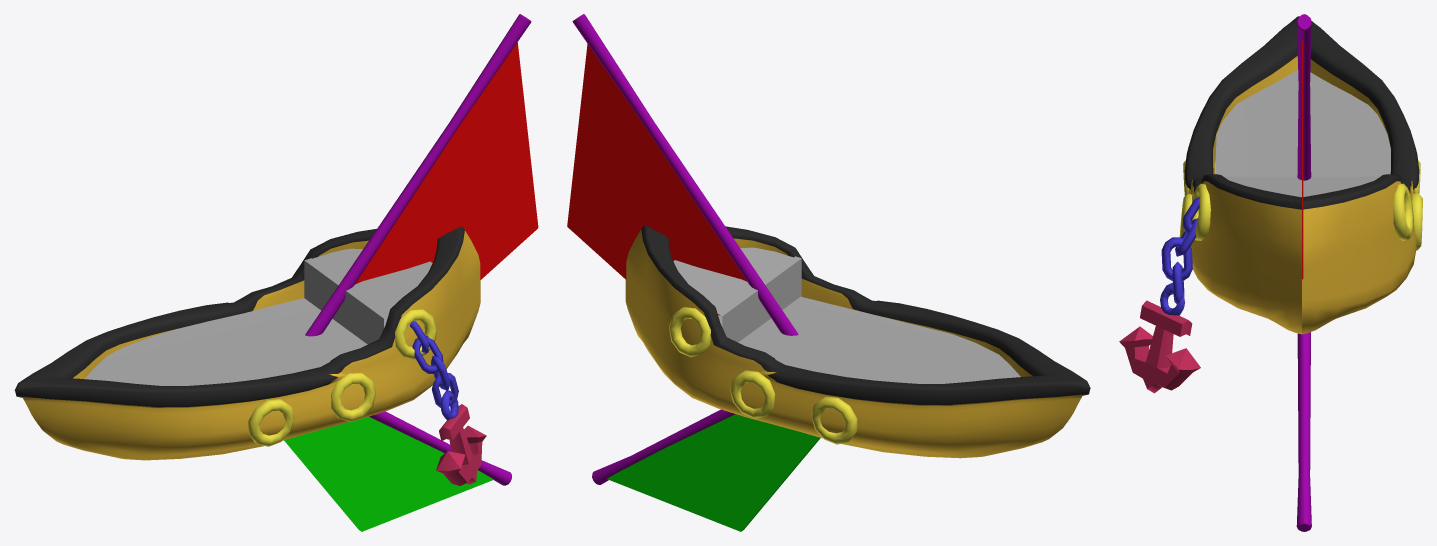
File: M2 Boat.fbx
3 renders of one model, left to right at view 1: azimuth 30°, elevation 25°; view 2: azimuth 150°, elevation 25°; view 3: azimuth 270°, elevation 25°, orthographic. The views are drawn at different scales.
Parts seen in each view (by area): view 1: pCube281, pPlane10, pPlane9, pPlane11, pCube362, pCube280, pCylinder130, pTorus38, pCube282, pCylinder133, pTorus35, pTorus39 (+1 smaller); view 2: pCube362, pPlane10, pPlane9, pPlane11, pCube281, pCube280, pCylinder130, pTorus36, pCylinder133, pTorus37; view 3: pCube281, pCube362, pPlane9, pCube282, pCylinder133, pCylinder130, pCube280, pTorus32, pTorus36, pTorus35, pTorus39, pTorus37 (+2 smaller).
Part boxes in pixels (x1=…): pCube281: x1=15, y1=226, x2=480, y2=460; pPlane10: x1=355, y1=42, x2=538, y2=284; pPlane9: x1=84, y1=298, x2=387, y2=385; pPlane11: x1=284, y1=416, x2=493, y2=531; pCube362: x1=14, y1=229, x2=376, y2=390; pCube280: x1=304, y1=248, x2=432, y2=344; pCylinder130: x1=305, y1=14, x2=531, y2=336; pTorus38: x1=248, y1=372, x2=376, y2=446; pCube282: x1=436, y1=404, x2=486, y2=485; pCylinder133: x1=369, y1=411, x2=511, y2=485; pTorus35: x1=395, y1=309, x2=436, y2=359; pTorus39: x1=410, y1=321, x2=443, y2=374; pCube362: x1=625, y1=225, x2=1090, y2=458; pPlane10: x1=567, y1=44, x2=746, y2=315; pPlane9: x1=718, y1=296, x2=1020, y2=383; pPlane11: x1=607, y1=414, x2=820, y2=531; pCube281: x1=725, y1=226, x2=1090, y2=388; pCube280: x1=673, y1=247, x2=801, y2=342; pCylinder130: x1=572, y1=14, x2=798, y2=335; pTorus36: x1=669, y1=307, x2=857, y2=444; pCylinder133: x1=592, y1=409, x2=734, y2=484; pTorus37: x1=730, y1=370, x2=775, y2=418; pCube281: x1=1184, y1=16, x2=1301, y2=334; pCube362: x1=1302, y1=21, x2=1419, y2=334; pPlane9: x1=1215, y1=70, x2=1390, y2=176; pCube282: x1=1119, y1=300, x2=1200, y2=393; pCylinder133: x1=1296, y1=332, x2=1311, y2=531; pCylinder130: x1=1296, y1=14, x2=1311, y2=180; pCube280: x1=1224, y1=176, x2=1379, y2=197; pTorus32: x1=1161, y1=237, x2=1192, y2=303; pTorus36: x1=1393, y1=160, x2=1420, y2=240; pTorus35: x1=1192, y1=183, x2=1210, y2=240; pTorus39: x1=1175, y1=197, x2=1199, y2=256; pTorus37: x1=1412, y1=193, x2=1422, y2=250.
Bounding box in the file's own units: 5027 × 4381 × 2237.
